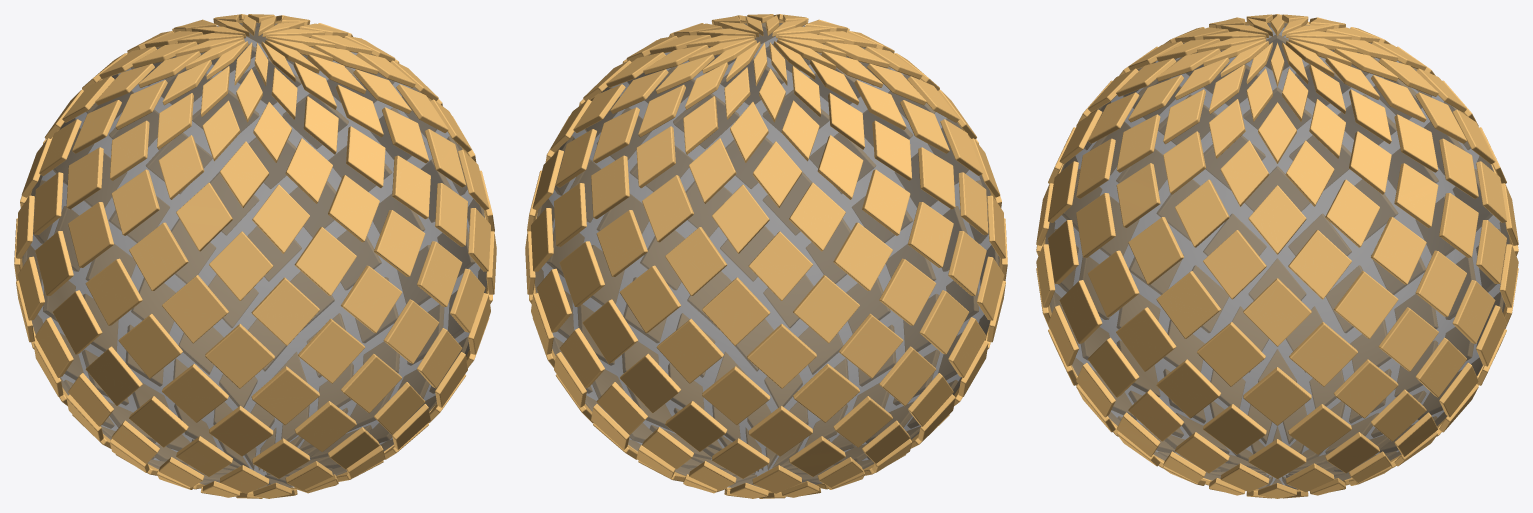
3 renders of one model, left to right at view 1: azimuth 30°, elevation 25°; view 2: azimuth 150°, elevation 25°; view 3: azimuth 270°, elevation 25°, orthographic.
Visible parts, largest first — view 1: Sphere_3DM.Gold_0, Sphere.001_3DM.Glass(Real)_0; view 2: Sphere_3DM.Gold_0, Sphere.001_3DM.Glass(Real)_0; view 3: Sphere_3DM.Gold_0, Sphere.001_3DM.Glass(Real)_0.
Part boxes in pixels (left/top/right/bottom): Sphere_3DM.Gold_0: left=14, top=14, right=496, bottom=498; Sphere.001_3DM.Glass(Real)_0: left=22, top=22, right=486, bottom=488; Sphere_3DM.Gold_0: left=525, top=14, right=1007, bottom=498; Sphere.001_3DM.Glass(Real)_0: left=534, top=22, right=999, bottom=488; Sphere_3DM.Gold_0: left=1036, top=14, right=1518, bottom=498; Sphere.001_3DM.Glass(Real)_0: left=1045, top=23, right=1509, bottom=489.
Size of the model in its own units: 200 by 201 by 200.
Materials: 2 (2 with a texture image).
